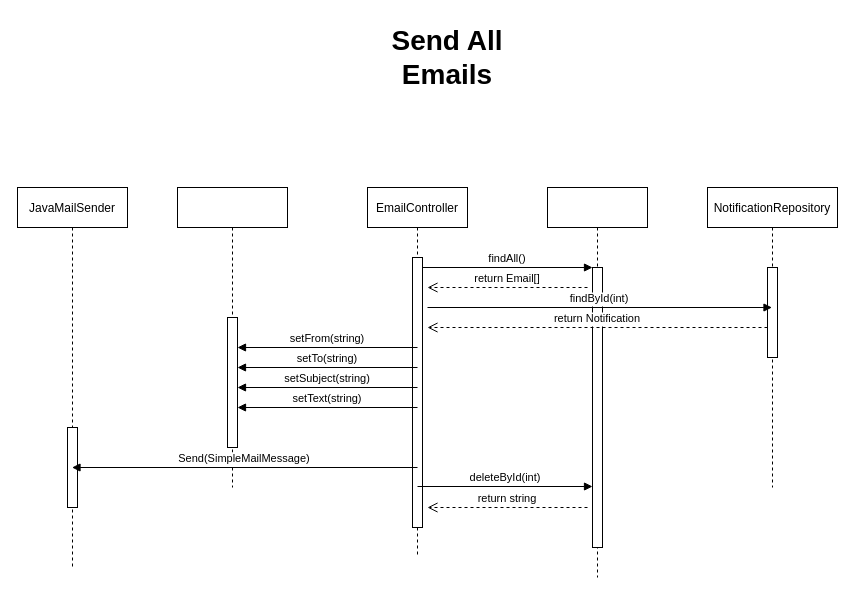
The diagram is 855 pixels wide and 595 high, and some of its shapes have lost their labels. The shapes that lost their labels are listed below. From the top down, each one's box as (x1, y1, x2, y2) in pixels, then its label:
(176, 186, 288, 488): SimpleMailMessage
(546, 186, 648, 578): EmailRepository
